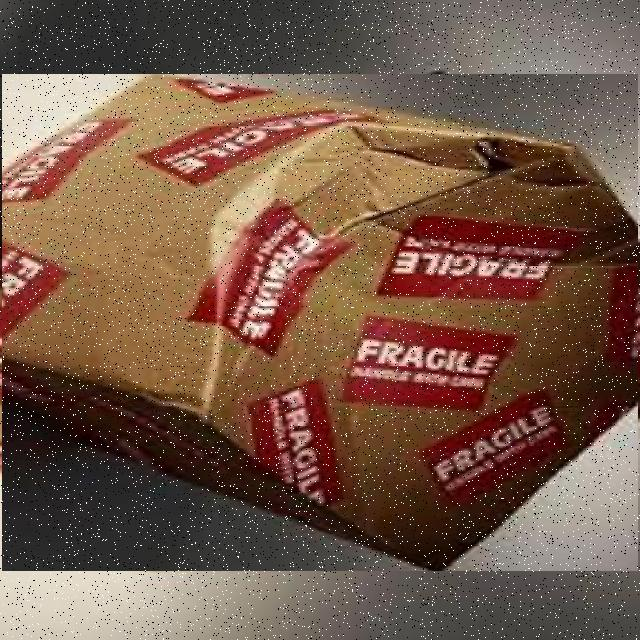defect: (2, 74, 638, 571)
